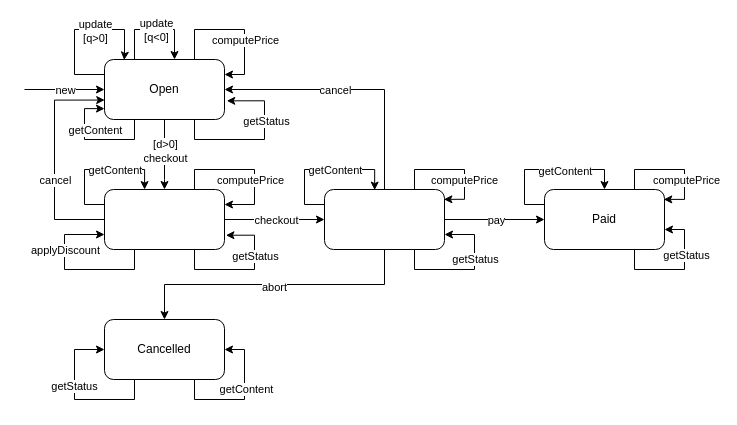
The diagram is 737 pixels wide and 425 high, and some of its shapes have lost their labels. Here are the shapes that lost their labels. From the top down, the centre of each, then its label:
pixel 164 219: Closed
pixel 384 219: Confirmed
